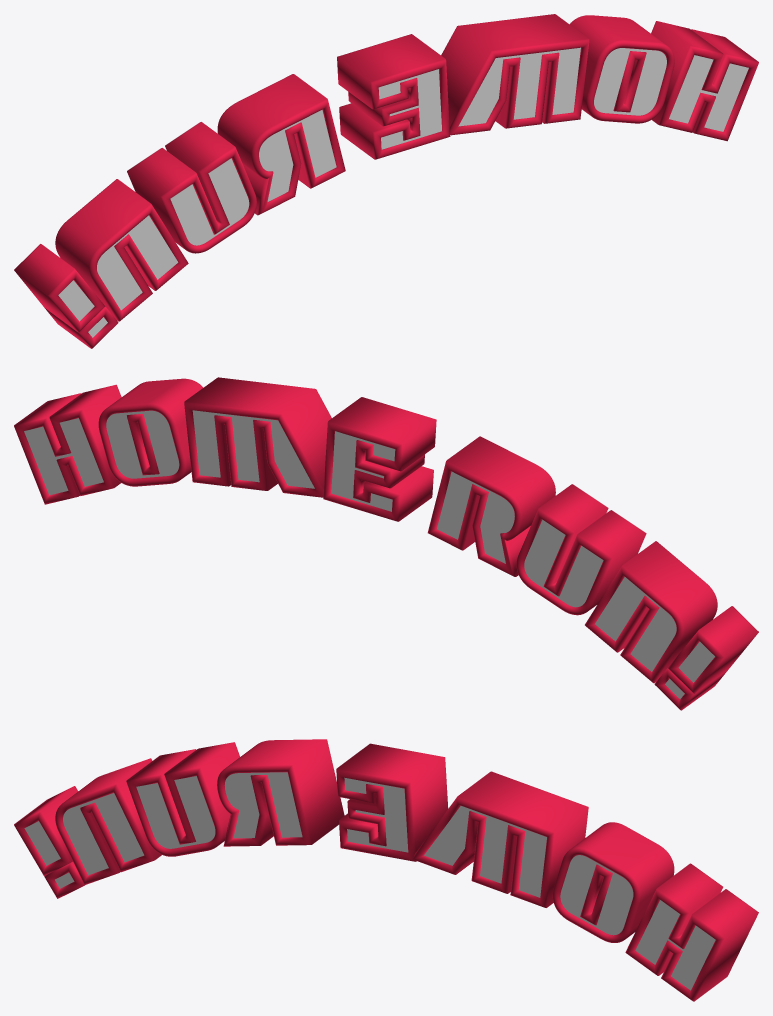
File: homerun.fbx
3 renders of one model, top to bottom at view 1: azimuth 30°, elevation 25°; view 2: azimuth 150°, elevation 25°; view 3: azimuth 330°, elevation 25°, orthographic.
Visible parts, largest first — view 1: Text.001, Text; view 2: Text.001, Text; view 3: Text.001, Text.
Part boxes in pixels (left/top/right/bottom): Text.001: left=14, top=14, right=758, bottom=348; Text: left=58, top=47, right=748, bottom=337; Text.001: left=14, top=377, right=758, bottom=710; Text: left=24, top=410, right=714, bottom=699; Text.001: left=14, top=739, right=758, bottom=1001; Text: left=24, top=772, right=715, bottom=990.
Bounding box in the file's own units: 597 × 163 × 55.86.
